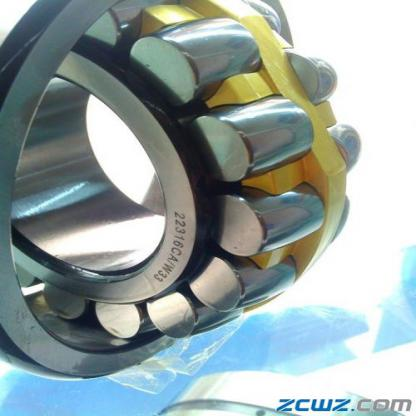FOD: (0, 0, 368, 384)
